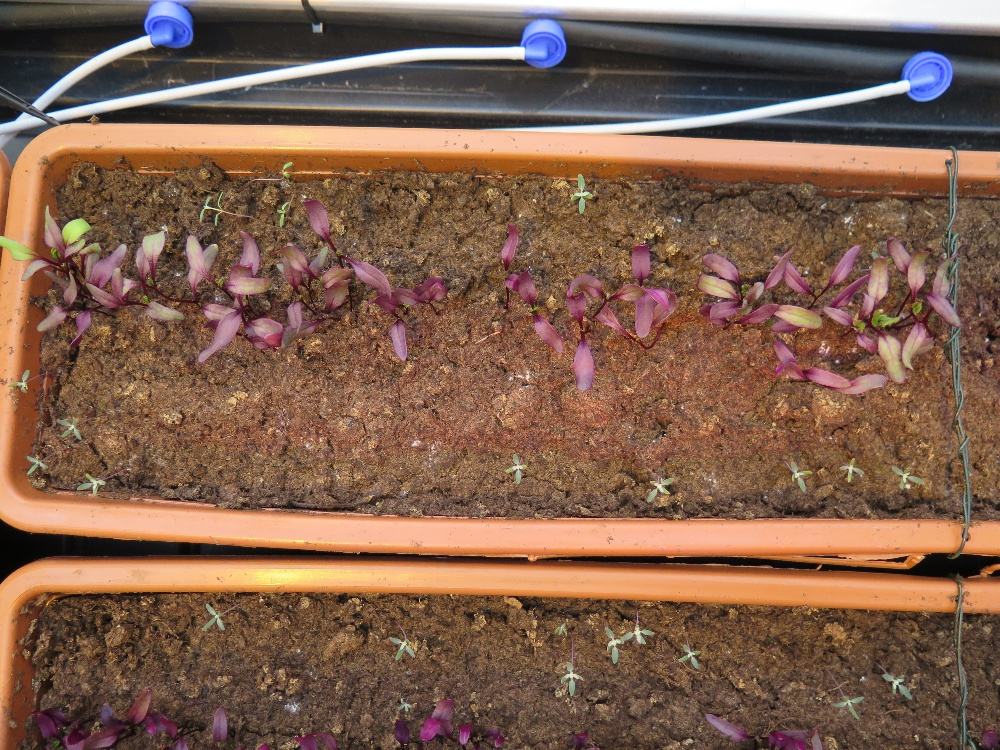crop: (252, 197, 443, 392), (105, 222, 291, 386), (812, 222, 957, 386), (743, 222, 866, 404), (18, 204, 139, 367), (507, 242, 623, 390), (580, 220, 684, 333), (682, 242, 787, 347), (32, 676, 159, 750), (116, 681, 237, 750), (384, 688, 489, 750), (698, 699, 825, 750), (466, 208, 523, 299), (275, 715, 348, 750)
weed: (850, 647, 927, 713), (566, 611, 677, 656), (552, 167, 621, 233), (764, 440, 825, 504), (187, 588, 252, 642), (639, 465, 696, 515), (64, 461, 118, 513), (821, 674, 864, 738), (889, 456, 937, 508), (377, 615, 423, 663), (657, 624, 712, 663), (548, 649, 593, 695), (837, 449, 880, 495), (502, 447, 532, 504), (59, 411, 96, 447), (18, 433, 43, 474), (14, 363, 37, 401)
